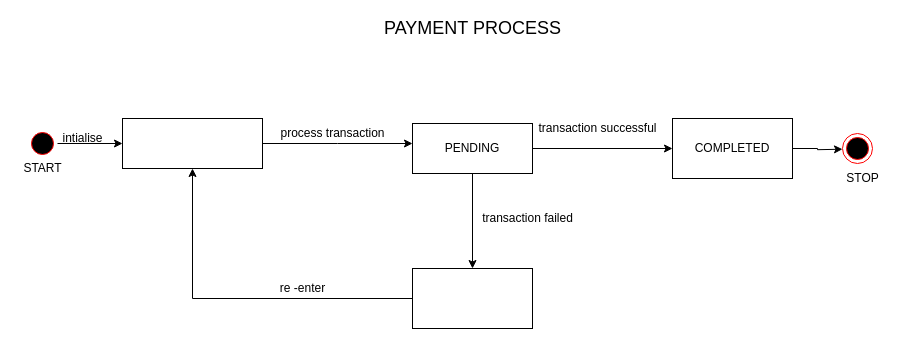
The diagram is 904 pixels wide and 346 high, and some of its shapes have lost their labels. Each missing label, with the box of its shape:
AWAITING FOR PAYEMENT: (122, 118, 262, 168)
DECLINED: (412, 268, 532, 328)
